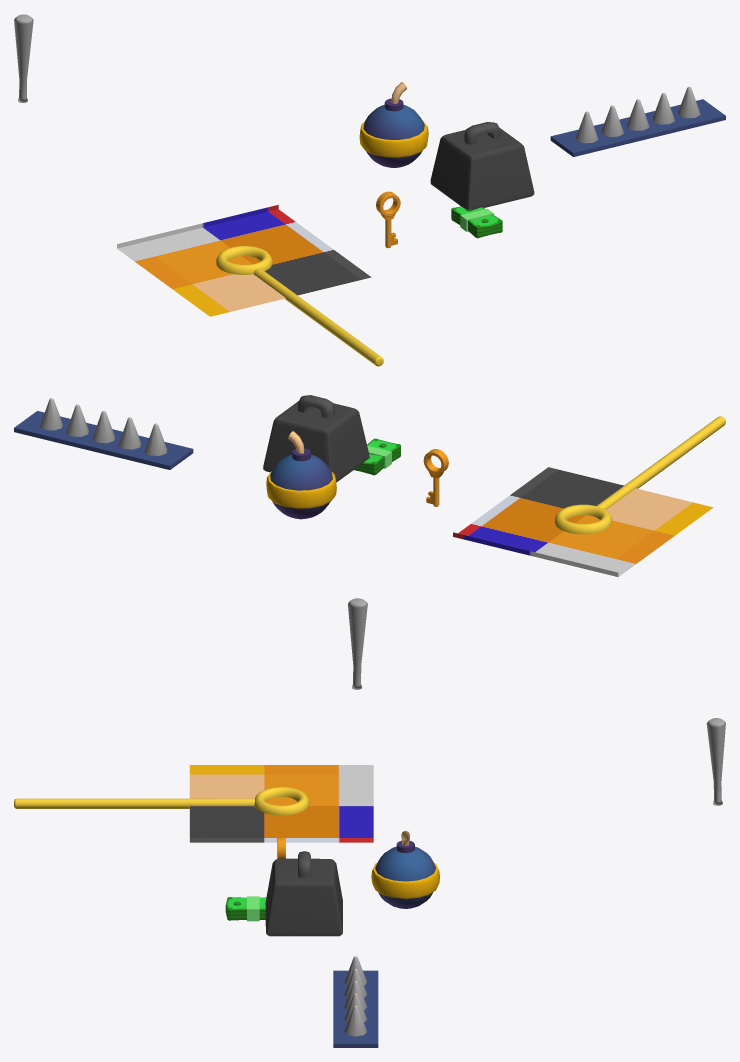
The picture shows the model from 3 angles, top to bottom: view 1: azimuth 30°, elevation 25°; view 2: azimuth 150°, elevation 25°; view 3: azimuth 270°, elevation 25°; orthographic projection. The views are drawn at different scales.
Parts seen in each view (by area): view 1: Ground, Ta, Gai, Bomb, Que, Money, duicui2, Vach_Ngan, Key; view 2: Ground, Ta, Gai, Bomb, Que, Vach_Ngan, duicui2, Money, Key; view 3: Ground, Ta, Gai, Bomb, Que, Vach_Ngan, duicui2, Money.
Boxes of the visible parts, x1,y1,x2,y2 form: Ground: [117, 205, 371, 316]; Ta: [430, 122, 534, 210]; Gai: [550, 86, 725, 156]; Bomb: [359, 82, 428, 167]; Que: [253, 268, 383, 366]; Money: [451, 206, 502, 238]; duicui2: [14, 14, 33, 102]; Vach_Ngan: [216, 246, 272, 274]; Key: [376, 191, 400, 248]; Ground: [453, 467, 713, 576]; Ta: [263, 395, 369, 482]; Gai: [14, 398, 193, 469]; Bomb: [266, 431, 336, 519]; Que: [597, 416, 725, 509]; Vach_Ngan: [554, 504, 612, 534]; duicui2: [348, 598, 367, 689]; Money: [354, 438, 400, 475]; Key: [423, 449, 448, 506]; Ground: [189, 765, 373, 842]; Ta: [265, 851, 342, 936]; Gai: [333, 956, 378, 1047]; Bomb: [371, 830, 439, 908]; Que: [14, 798, 254, 808]; Vach_Ngan: [254, 787, 309, 815]; duicui2: [706, 718, 725, 805]; Money: [225, 896, 266, 921].
Size of the model in its own units: 0.0884 by 0.0151 by 0.094.
